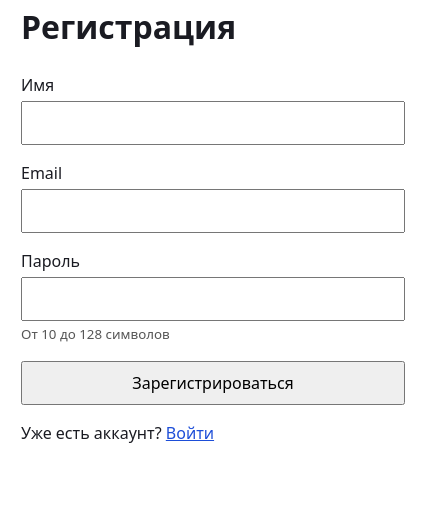
Scenario: register › validates fields on the client and focuses the first invalid one
The width and height of the screenshot is (427, 532).
Click the button "Зарегистрироваться" at (213, 383), box [21,361,405,405]
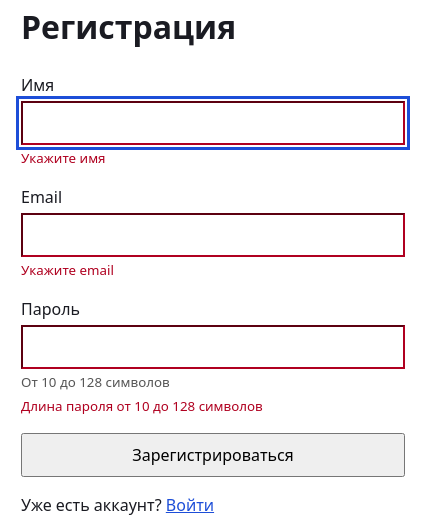
Expected: the text "Укажите имя" is shown, [21,149,106,167]
Expected: the text "Укажите email" is shown, [21,261,114,279]
Expected: the text "Длина пароля от 10 до 128 символов" is shown, [21,397,263,415]
